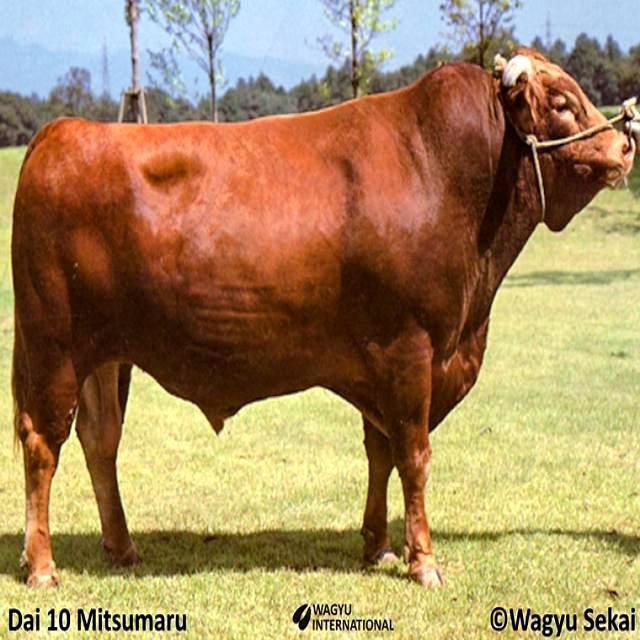COW: (12, 49, 635, 586)
